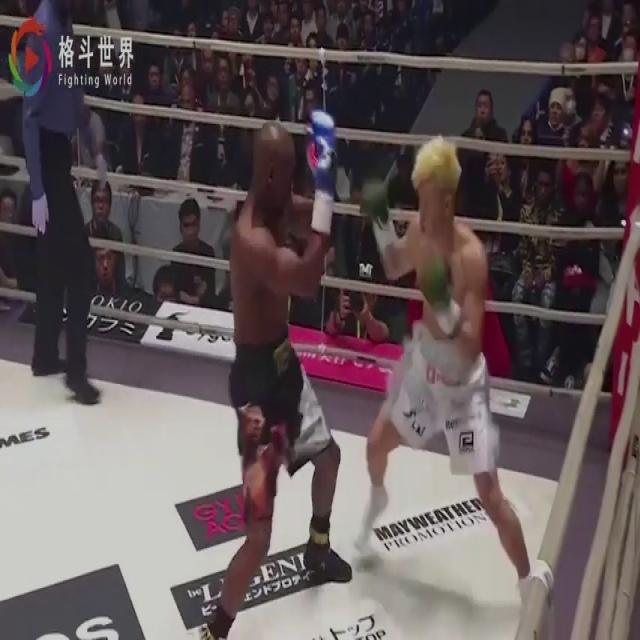fight: (199, 112, 532, 640)
